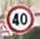limite 40: (5, 3, 34, 34)
